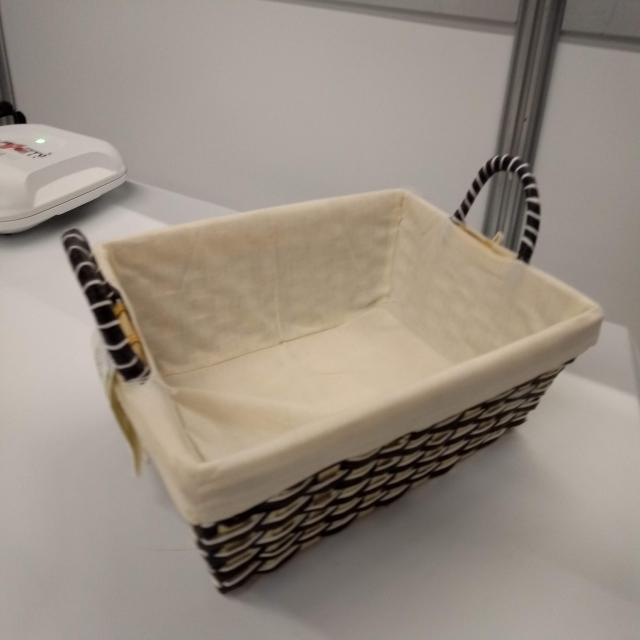basket: (56, 145, 607, 598)
